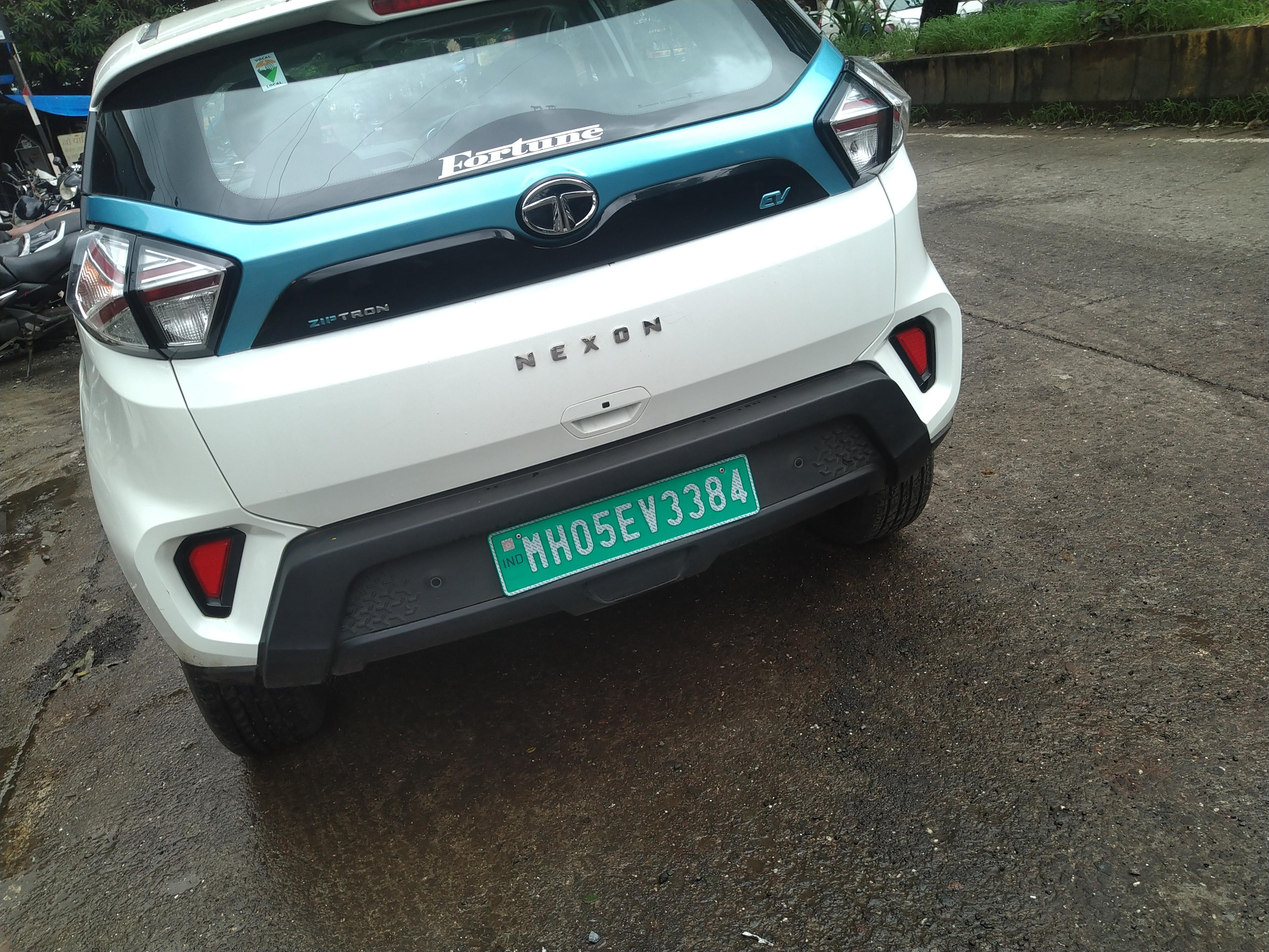green license plate: (463, 362, 656, 573)
